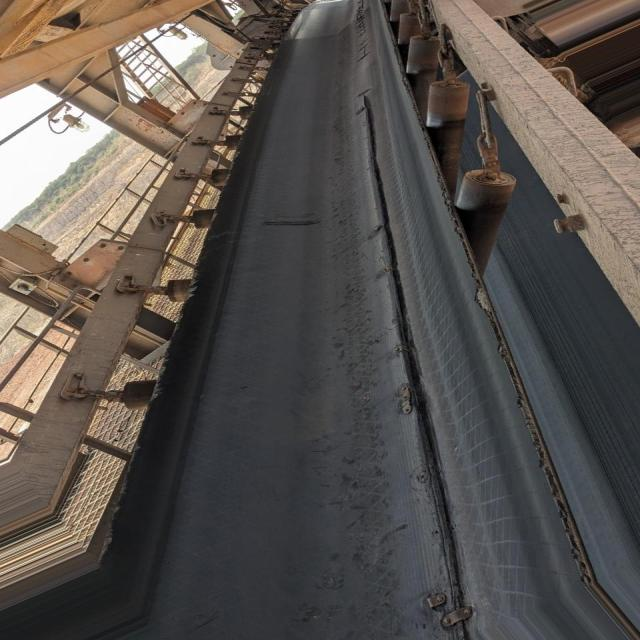Roller: (382, 7, 473, 165), (460, 172, 504, 283)
Tear: (340, 98, 498, 630)
